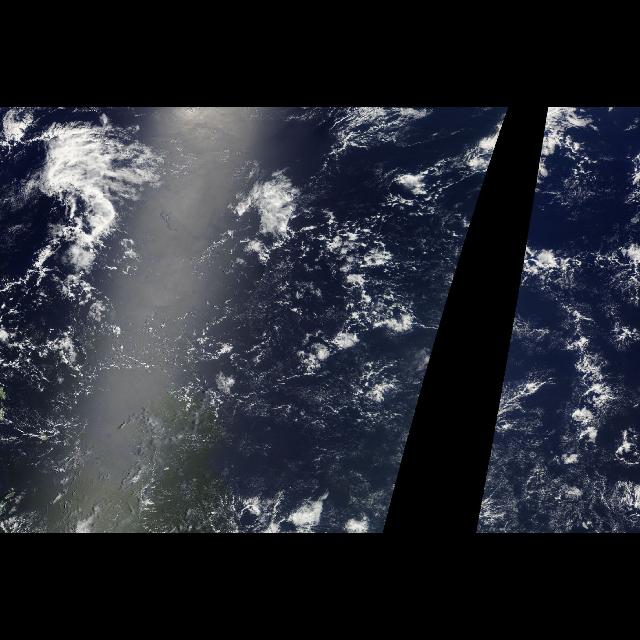Gravel: (308, 218, 414, 378)
